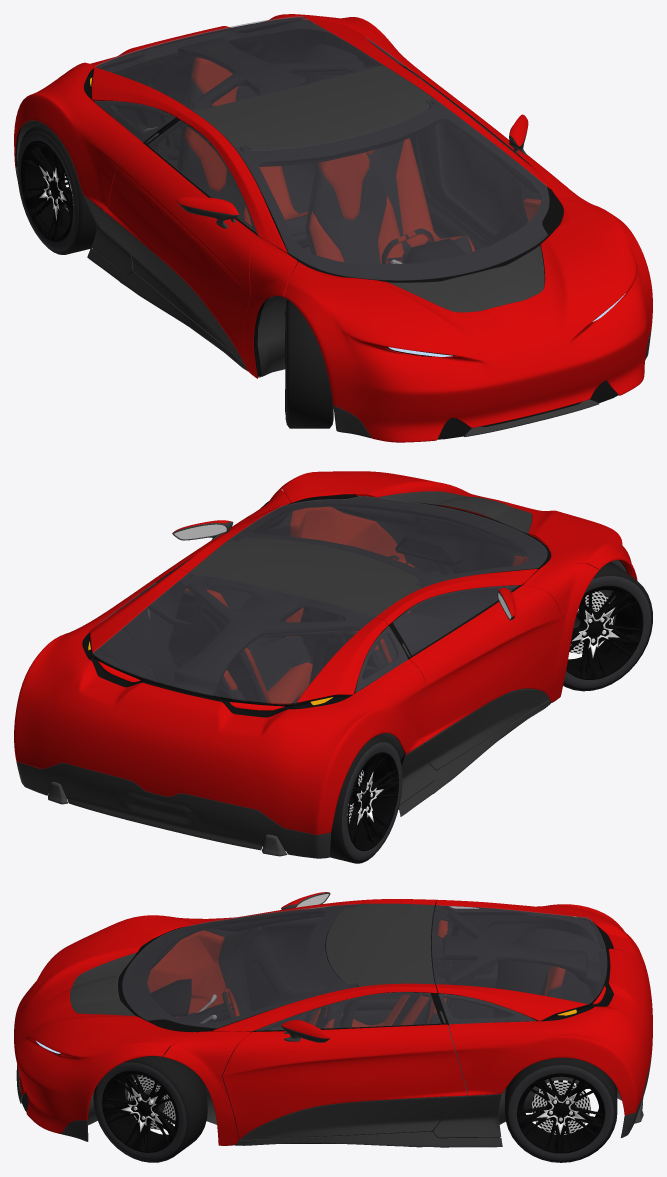
File: aurora-gt.glb
3 renders of one model, top to bottom at view 1: azimuth 30°, elevation 25°; view 2: azimuth 150°, elevation 25°; view 3: azimuth 270°, elevation 25°, orthographic. The views are drawn at different scales.
Parts seen in each view (by area): view 1: BodyHood, BodyWindshield, BodyRearwindow, BodyDoorRColor1, BodyRearPanelsColor1, BodyWindshieldGasket, BodyRoofPanel, InteriorSeatsColor1, InteriorDoorL01, InteriorSeatsColor2, BodyPillars, InteriorRearPanels (+17 smaller); view 2: BodyRearPanelsColor1, BodyRearwindow, BodyWindshield, BodyPanelsColor2, BodyDoorRColor1, BodyRoofPanel, InteriorPillar, BodyHood, BodyPillars, InteriorDashMid, BodyWindshieldGasket, WheelFrontRRim (+19 smaller); view 3: BodyWindshield, BodyRearPanelsColor1, BodyDoorLColor1, BodyHood, BodyRearwindow, BodyRoofPanel, BodyPillars, BodyWindshieldGasket, InteriorDoorR01, BodyDoorLColor2, BodyPanelsColor2, InteriorPillar (+22 smaller).
Part boxes in pixels (x1,y1,x2,y2): BodyHood: (283, 198, 652, 442); BodyWindshield: (234, 98, 549, 280); BodyRearwindow: (95, 16, 382, 111); BodyDoorRColor1: (104, 143, 257, 362); BodyRearPanelsColor1: (14, 14, 428, 210); BodyWindshieldGasket: (234, 99, 563, 282); BodyRoofPanel: (193, 65, 432, 150); InteriorSeatsColor1: (185, 57, 475, 264); InteriorDoorL01: (410, 78, 526, 248); InteriorSeatsColor2: (180, 78, 472, 264); BodyPillars: (176, 61, 598, 378); InteriorRearPanels: (15, 20, 420, 210); BodyRearPanelsColor1: (14, 569, 425, 834); BodyRearwindow: (92, 572, 373, 703); BodyWindshield: (229, 496, 547, 587); BodyPanelsColor2: (16, 700, 550, 858); BodyDoorRColor1: (409, 585, 562, 742); BodyRoofPanel: (189, 537, 422, 617); InteriorPillar: (171, 574, 417, 701); BodyHood: (279, 471, 637, 580); BodyPillars: (175, 489, 599, 702); InteriorDashMid: (332, 503, 528, 622); BodyWindshieldGasket: (230, 495, 550, 587); WheelFrontRRim: (566, 585, 643, 679); BodyWindshield: (122, 904, 358, 1028); BodyRearPanelsColor1: (436, 899, 652, 1115); BodyDoorLColor1: (222, 1024, 467, 1139); BodyHood: (14, 915, 196, 1133); BodyRearwindow: (432, 905, 607, 1004); BodyRoofPanel: (326, 903, 434, 986); BodyPillars: (163, 899, 437, 1145); BodyWindshieldGasket: (118, 905, 357, 1032); InteriorDoorR01: (244, 917, 451, 1013); BodyDoorLColor2: (240, 1096, 467, 1140); BodyPanelsColor2: (16, 1050, 652, 1147); InteriorPillar: (322, 910, 600, 1027).
Size of the model in its own units: 2.54 by 1.15 by 4.36.
Materials: 20 (1 with a texture image).
